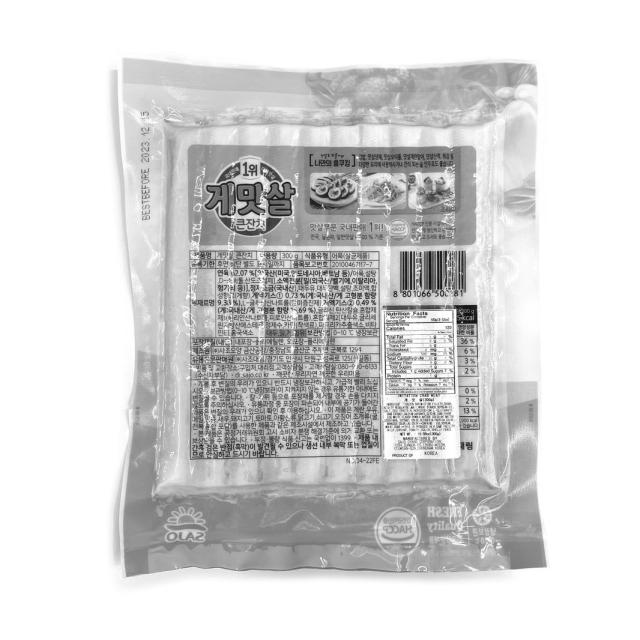Nutrition Label: (383, 308, 458, 400)
